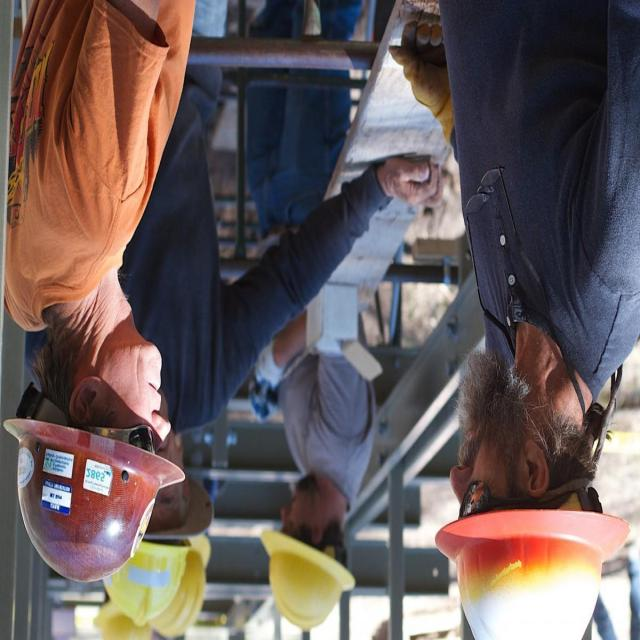helmet: (0, 418, 182, 588), (418, 502, 638, 640), (243, 522, 356, 630)
